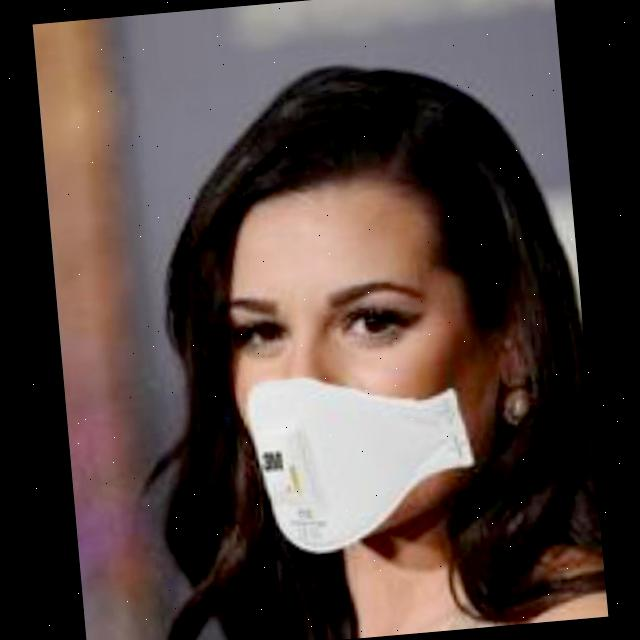suspicion: (166, 69, 602, 568)
